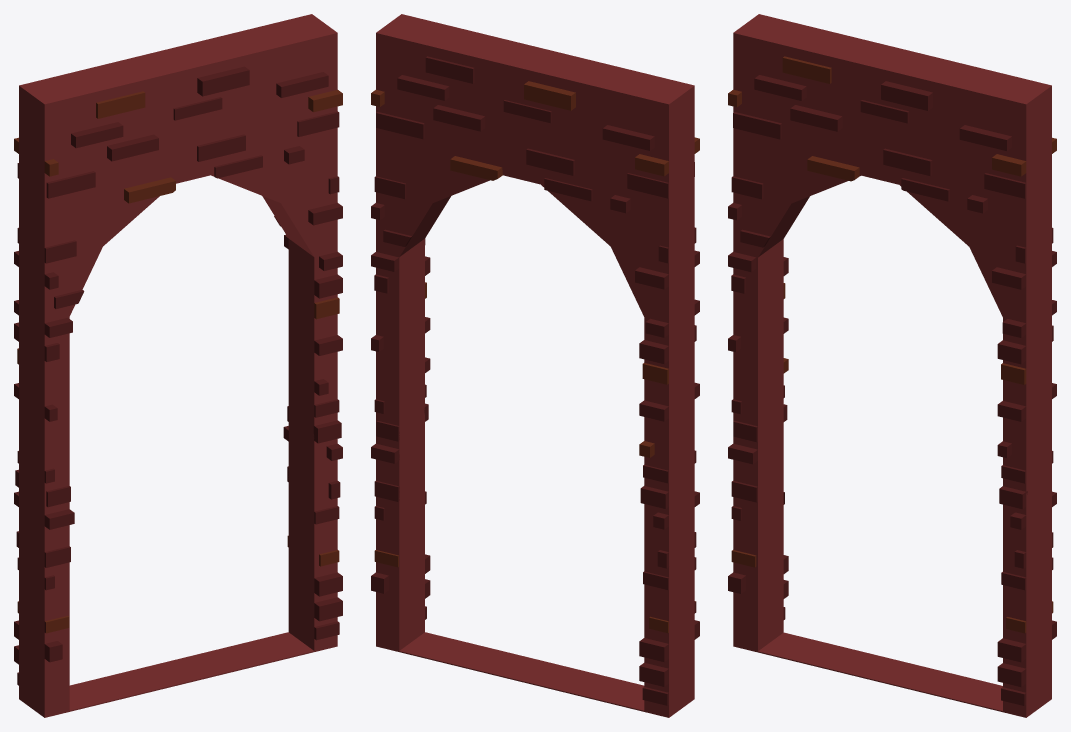
Rendered from BrickDoorframe.glb.
3 renders of one model, left to right at view 1: azimuth 30°, elevation 25°; view 2: azimuth 150°, elevation 25°; view 3: azimuth 330°, elevation 25°, orthographic.
Visible parts, largest first — view 1: wall_brick_door; view 2: wall_brick_door; view 3: wall_brick_door.
Boxes of the visible parts, <box> form: wall_brick_door: <box>14,14,342,717</box>; wall_brick_door: <box>371,14,699,717</box>; wall_brick_door: <box>728,14,1056,717</box>.
Size of what is drawn, in the model's own units: 2 by 4 by 0.4206.
Materials: 1 (1 with a texture image).
